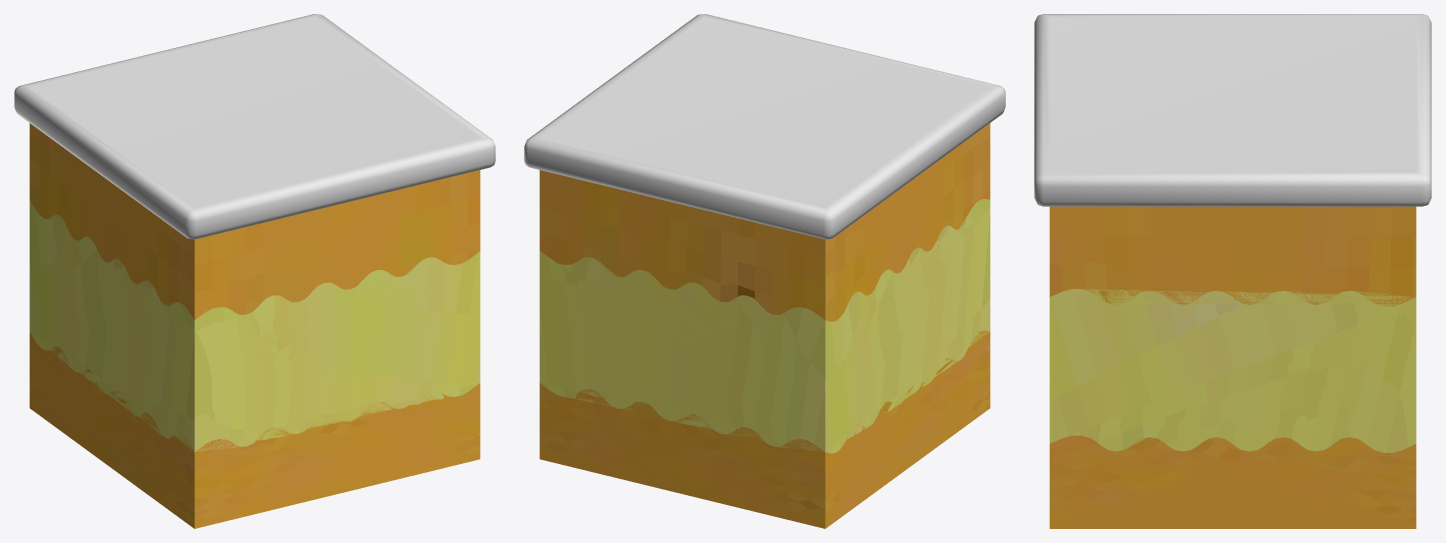
File: Tile.fbx
3 renders of one model, left to right at view 1: azimuth 30°, elevation 25°; view 2: azimuth 150°, elevation 25°; view 3: azimuth 270°, elevation 25°, orthographic. The views are drawn at different scales.
Visible parts, largest first — view 1: Cube, Cube.001; view 2: Cube, Cube.001; view 3: Cube, Cube.001.
Boxes of the visible parts, <box> form: Cube: <box>29,123,480,528</box>; Cube.001: <box>14,14,495,239</box>; Cube: <box>539,123,990,528</box>; Cube.001: <box>524,14,1005,239</box>; Cube: <box>1049,206,1416,528</box>; Cube.001: <box>1034,14,1431,206</box>.
Bounding box in the file's own units: 217 × 215 × 217.
1 material, 1 textured.
